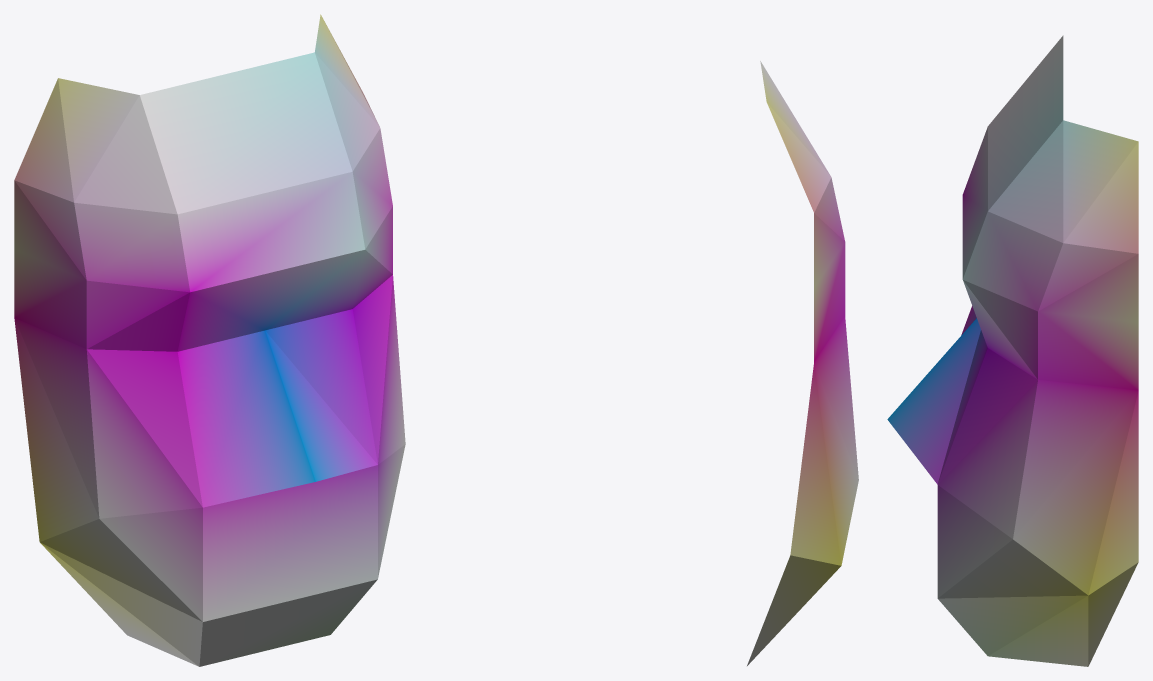
The picture shows the model from 3 angles, left to right: view 1: azimuth 30°, elevation 25°; view 2: azimuth 150°, elevation 25°; view 3: azimuth 270°, elevation 25°; orthographic projection. The views are drawn at different scales.
Parts seen in each view (by area): view 1: model_1419; view 2: model_1419; view 3: model_1419.
Part boxes in pixels (x1,y1,x2,y2): model_1419: (14, 14, 405, 666); model_1419: (747, 61, 858, 665); model_1419: (887, 35, 1138, 666).
Bounding box in the file's own units: 16 × 24 × 10.
